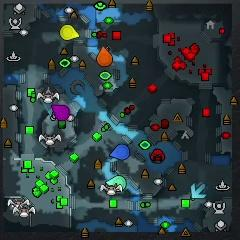p1: (110, 144, 130, 160)
p2: (106, 176, 126, 190)
p3: (51, 105, 70, 122)
p4: (60, 26, 80, 40)
p5: (97, 46, 113, 66)
x3: (192, 183, 206, 199)
